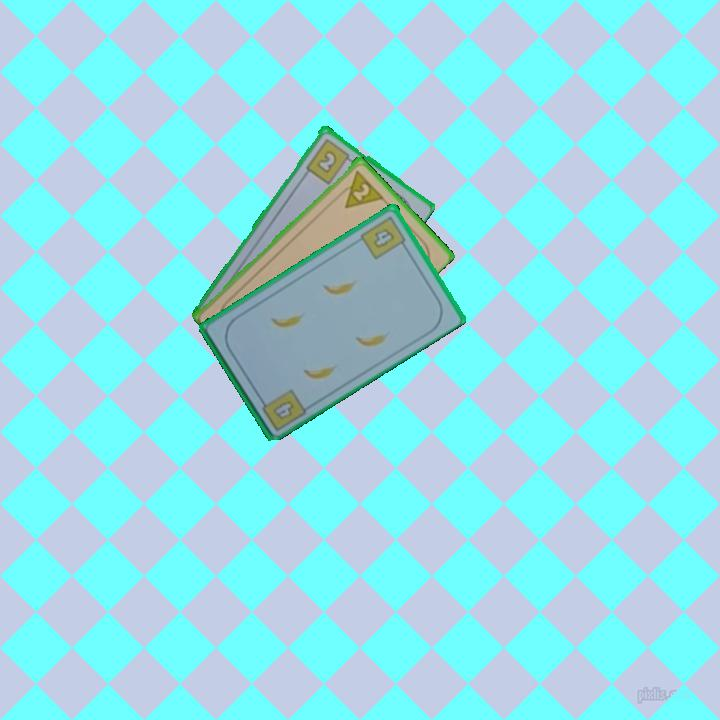2b: (302, 135, 356, 186)
2p: (334, 165, 386, 211)
4b: (357, 212, 410, 262), (256, 385, 309, 434)
